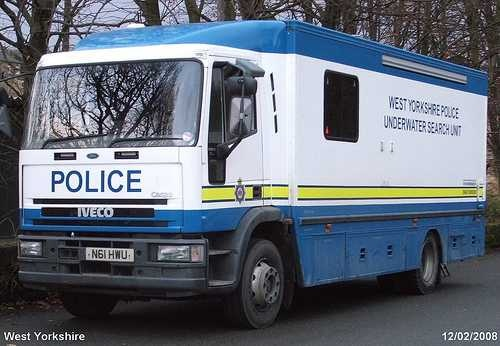Police Van: (18, 25, 500, 346)
